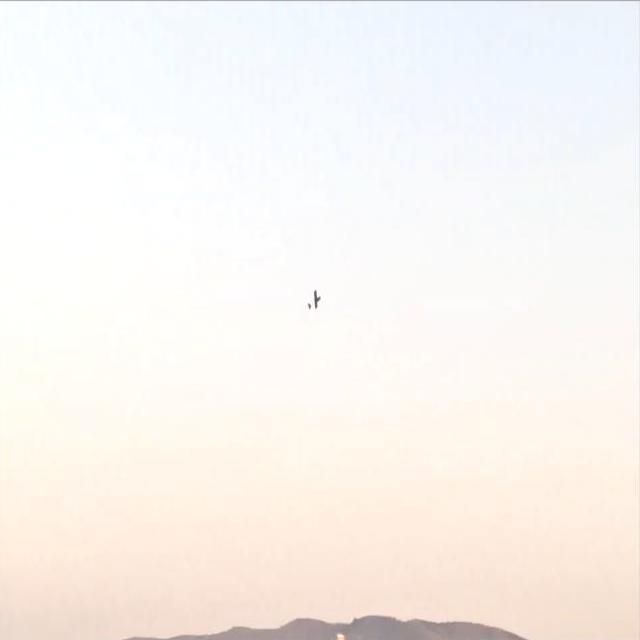plane: (308, 289, 323, 310)
